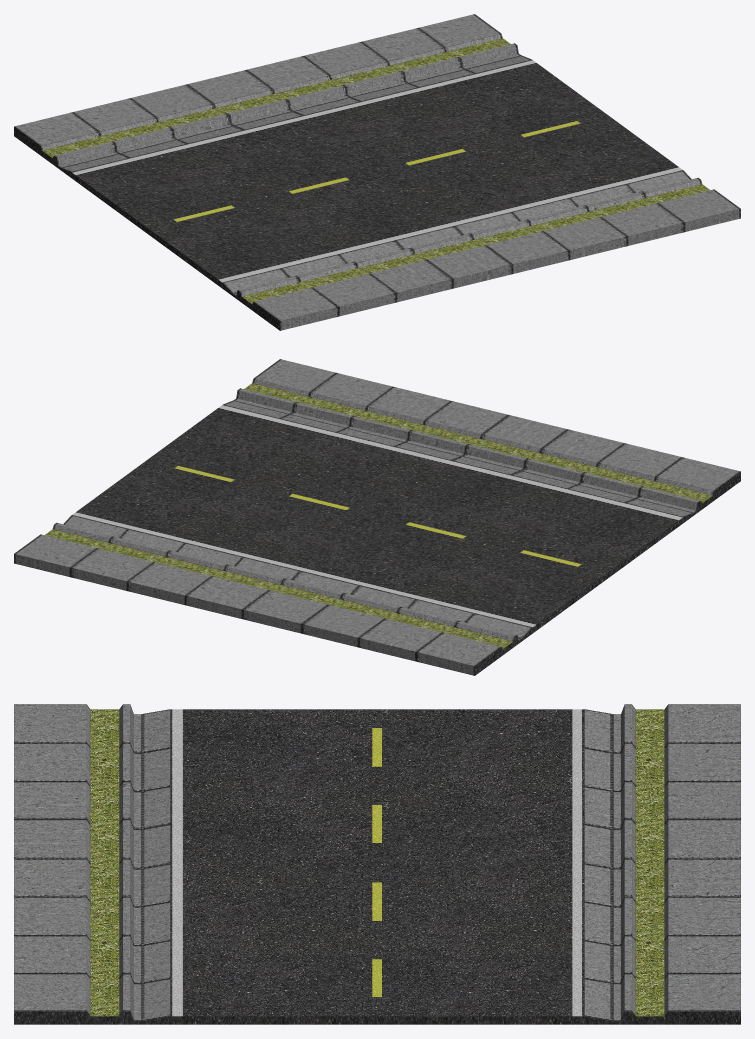
Rendered from Road-2-Lane-Straight.obj.
3 renders of one model, top to bottom at view 1: azimuth 30°, elevation 25°; view 2: azimuth 150°, elevation 25°; view 3: azimuth 270°, elevation 25°, orthographic. The views are drawn at different scales.
Visible parts, largest first — view 1: Road_2_Lane_Straight; view 2: Road_2_Lane_Straight; view 3: Road_2_Lane_Straight.
Boxes of the visible parts, x1,y1,x2,y2 form: Road_2_Lane_Straight: (14, 14, 740, 330); Road_2_Lane_Straight: (14, 359, 740, 675); Road_2_Lane_Straight: (14, 704, 740, 1024).
Size of the model in its own units: 3600 by 72 by 3600.
Materials: 1 (1 with a texture image).
